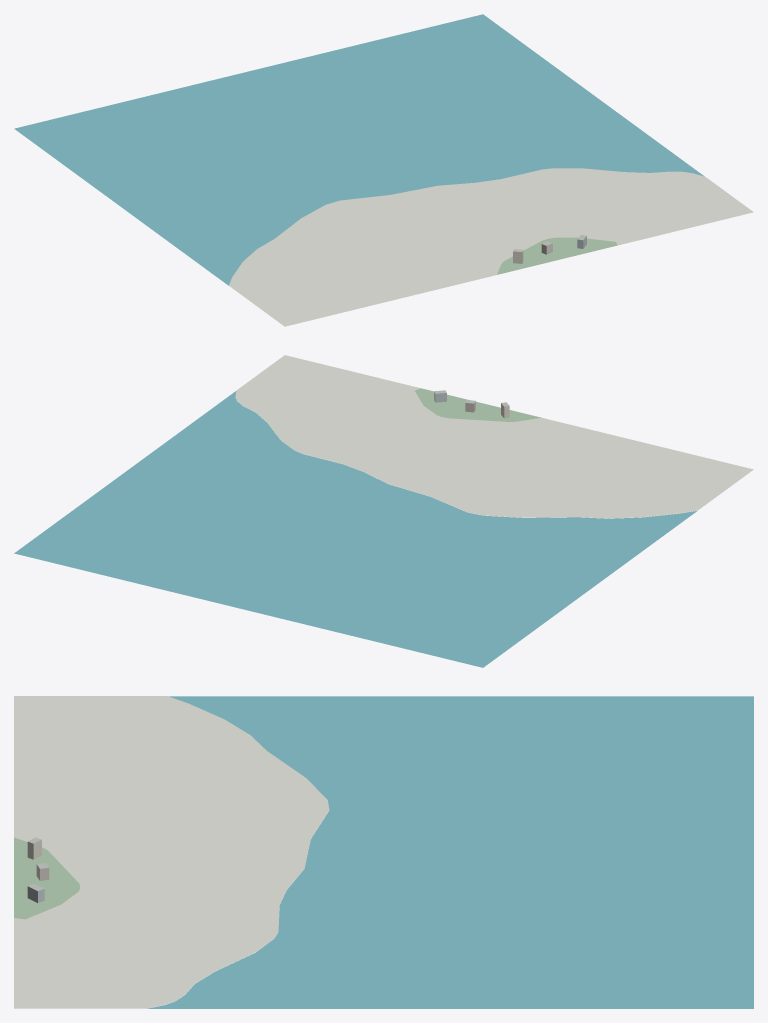
3 views of the same model, one above another, from view 1: azimuth 30°, elevation 25°; view 2: azimuth 150°, elevation 25°; view 3: azimuth 270°, elevation 25° (orthographic). The views are drawn at different scales.
Visible parts, largest first — view 1: city; view 2: city; view 3: city.
Part boxes in pixels (box(x1,y1,x2,y2)): city: box(14, 14, 753, 326); city: box(14, 355, 753, 667); city: box(14, 696, 753, 1008).
Size of the model in its own units: 500 by 12.18 by 500.
